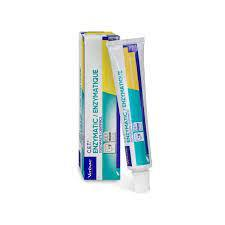toothpaste: (106, 37, 158, 196)
